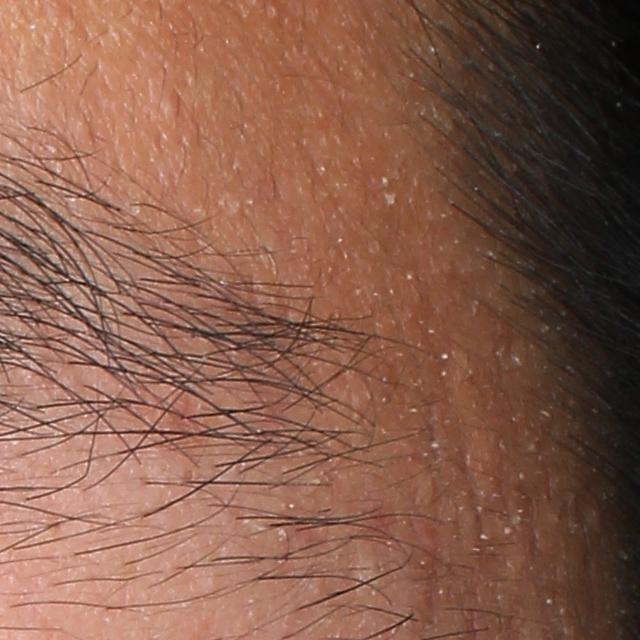comedo: (165, 97, 182, 122)
